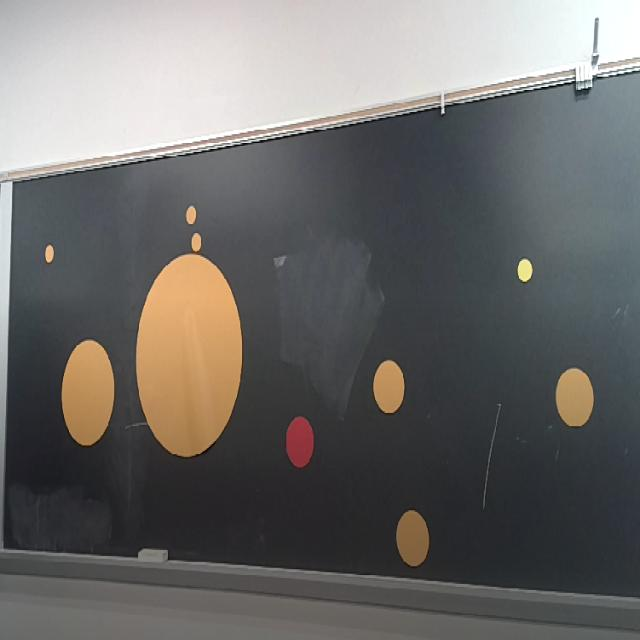Orange: (136, 254, 242, 458), (61, 338, 116, 448), (556, 367, 594, 427), (396, 509, 430, 568), (374, 360, 406, 415), (191, 233, 202, 252), (186, 206, 197, 224), (46, 244, 54, 264)
Red: (284, 416, 314, 469)
Yellow: (517, 258, 533, 281)
